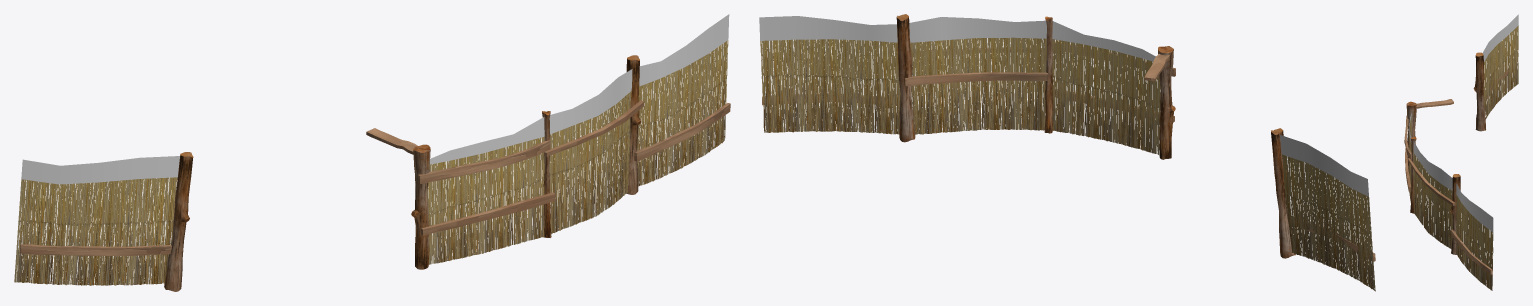
The model's file is bambooFence1.fbx.
3 renders of one model, left to right at view 1: azimuth 30°, elevation 25°; view 2: azimuth 150°, elevation 25°; view 3: azimuth 270°, elevation 25°, orthographic. The views are drawn at different scales.
Visible parts, largest first — view 1: bambooFence1; view 2: bambooFence1; view 3: bambooFence1.
Boxes of the visible parts, x1,y1,x2,y2 form: bambooFence1: (14,14,730,291); bambooFence1: (759,14,1375,291); bambooFence1: (1404,14,1518,290).
Bounding box in the file's own units: 1700 × 331 × 406.
